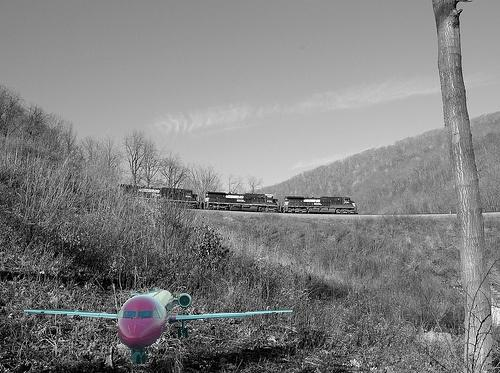tampered: (25, 289, 293, 364)
